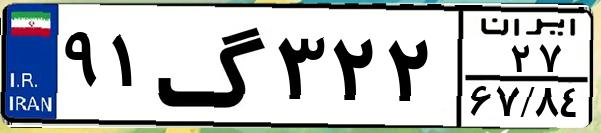1: (110, 28, 156, 98)
2: (385, 28, 445, 110), (330, 28, 385, 110), (508, 27, 537, 80)
3: (270, 28, 330, 110)
4: (560, 70, 590, 125)
6: (470, 70, 495, 125)
7: (537, 27, 568, 80), (495, 70, 520, 125)
8: (535, 70, 560, 125)
9: (57, 26, 110, 100)
گ: (156, 12, 270, 120)
